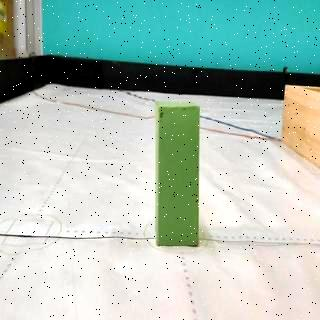greenbox: (156, 100, 202, 247)
